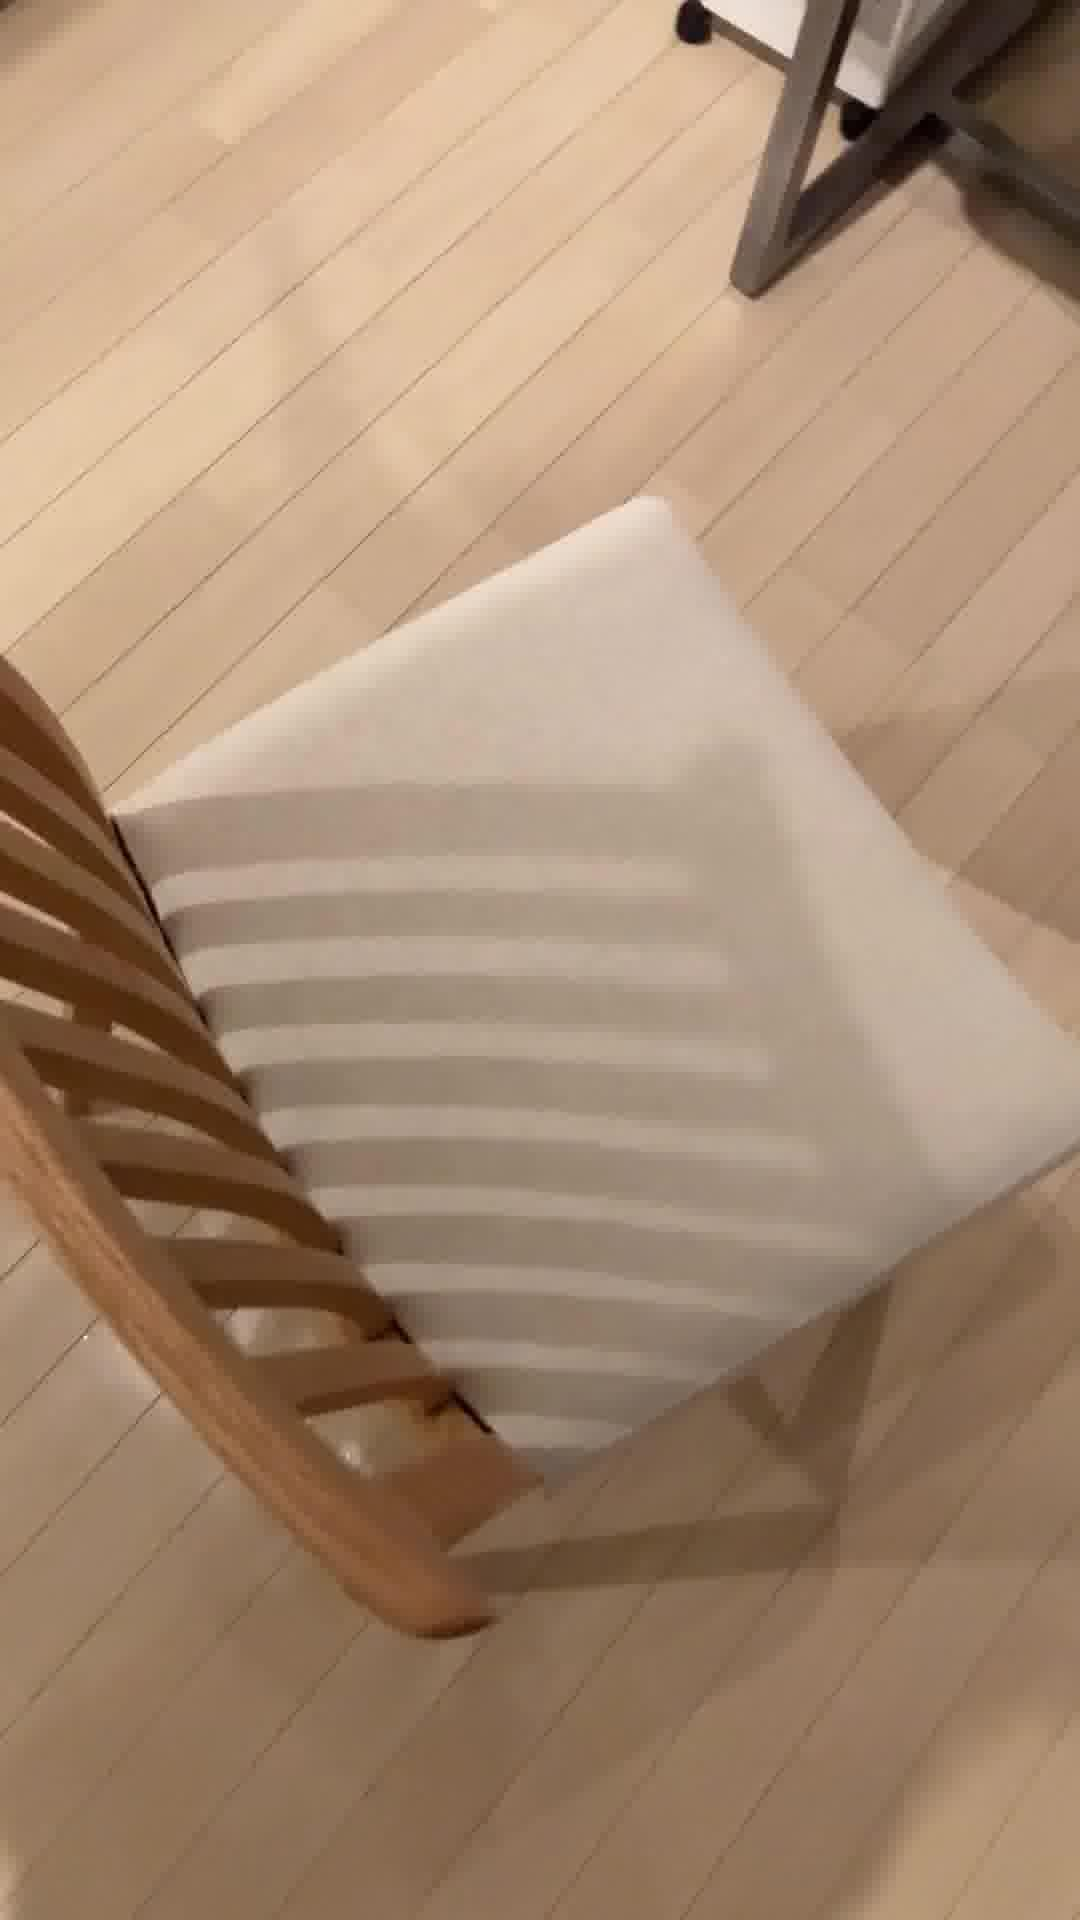takumikan-chair: (0, 488, 1080, 1640)
